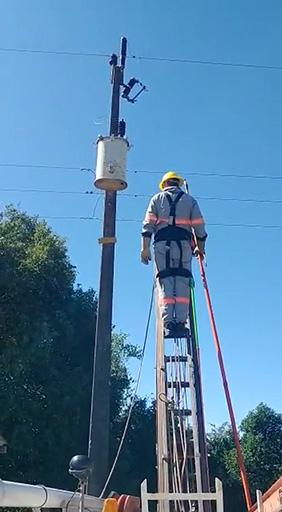Vara_Manobra: (183, 182, 252, 512)
